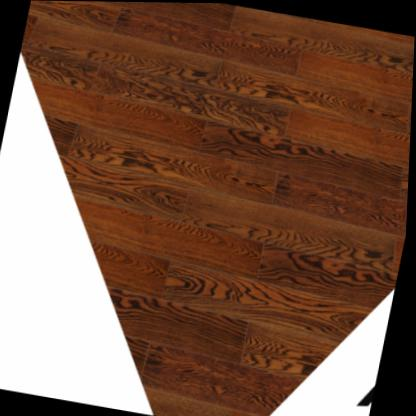Wooden floor: (20, 0, 415, 416)
